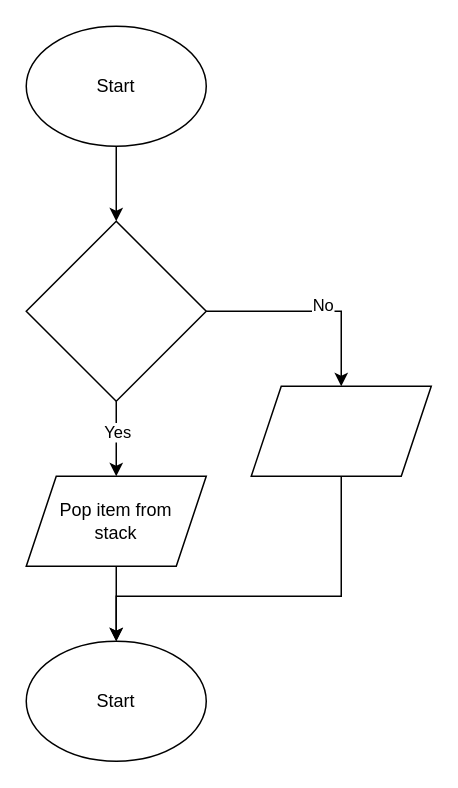
Some shapes in this 458 by 788 pixel diagram are drawn without their labels. The box of each missing label's shape, as (x1, y1, x2, y2) in pixels:
if stack is not empty: (25, 220, 206, 401)
print "No items to pop from the stack": (250, 385, 431, 476)
